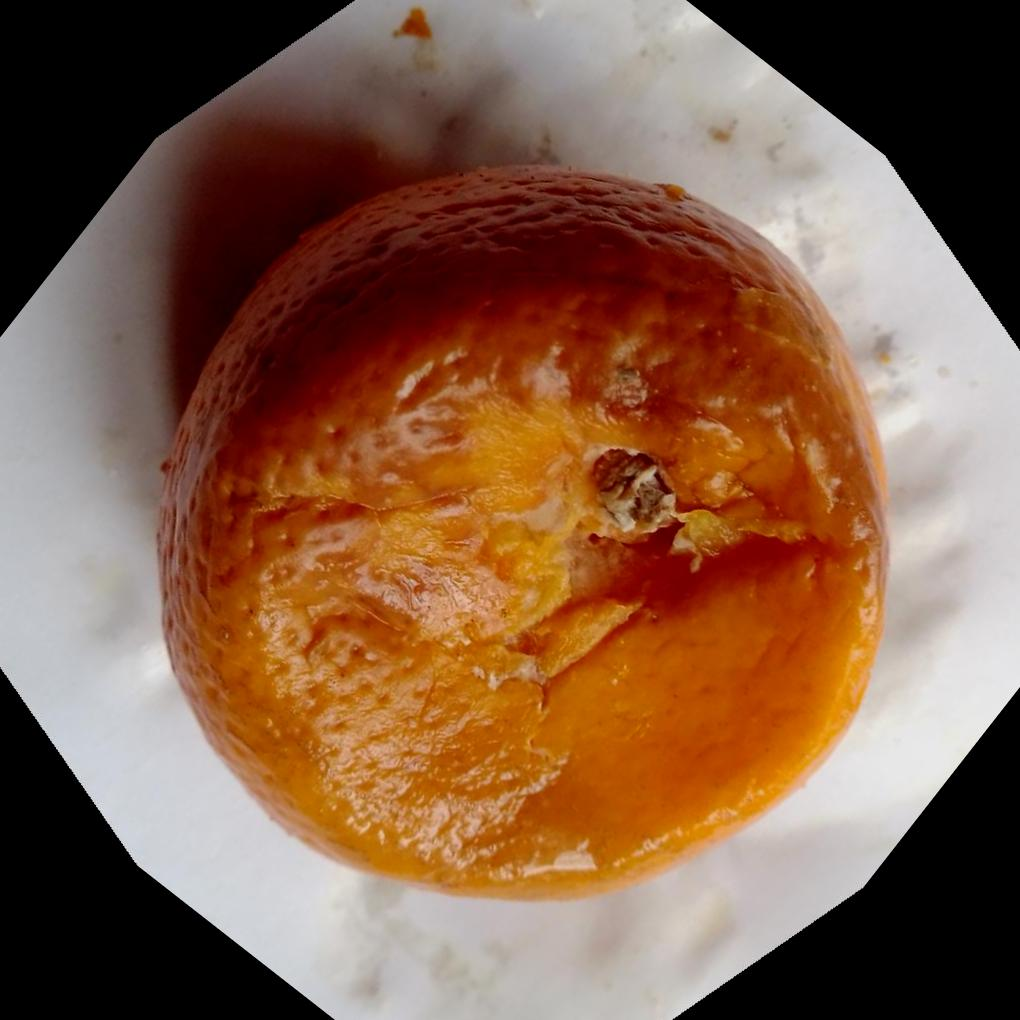FreshOrange: (150, 157, 889, 900)
